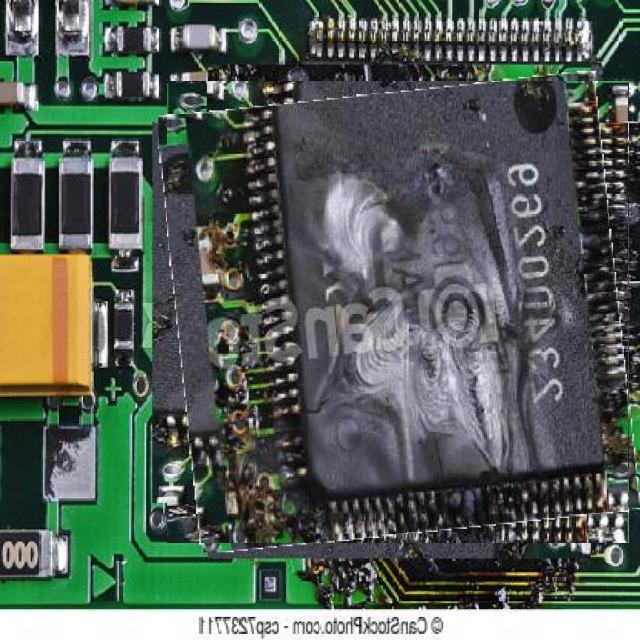damged: (168, 82, 629, 543)
